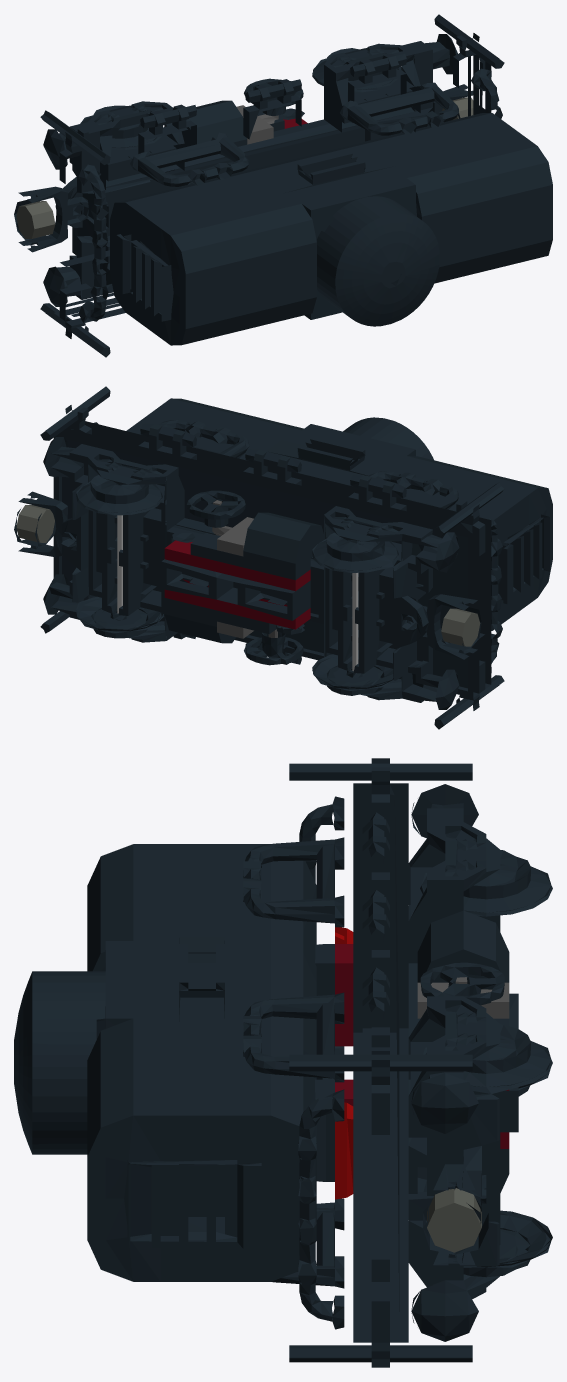
Rendered from tank-car.glb.
The picture shows the model from 3 angles, top to bottom: view 1: azimuth 30°, elevation 25°; view 2: azimuth 150°, elevation 25°; view 3: azimuth 270°, elevation 25°; orthographic projection. The views are drawn at different scales.
Size of the model in its own units: 136 by 59.8 by 94.
